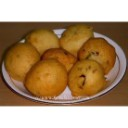bonda: (24, 57, 68, 102), (71, 58, 106, 94), (60, 24, 97, 53)
